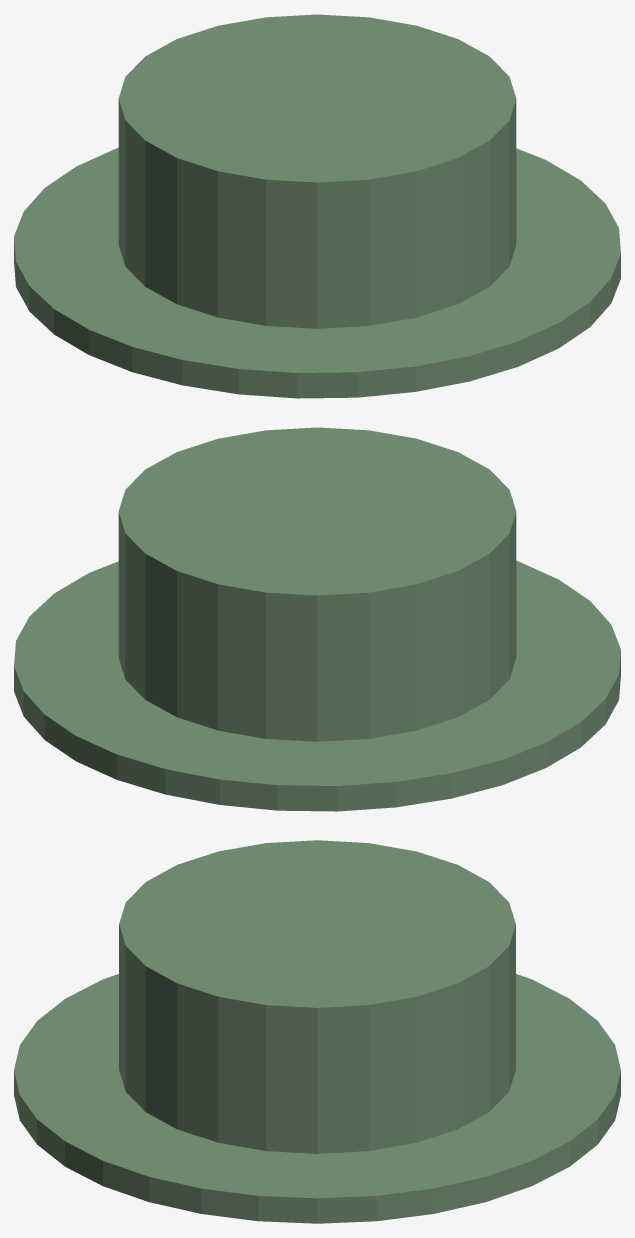
Rendered from army_ladies_hat_officer_wo_me3_to_me8.glb.
3 renders of one model, top to bottom at view 1: azimuth 30°, elevation 25°; view 2: azimuth 150°, elevation 25°; view 3: azimuth 270°, elevation 25°, orthographic.
Parts seen in each view (by area): view 1: hat_crown, hat_brim; view 2: hat_crown, hat_brim; view 3: hat_crown, hat_brim.
Part boxes in pixels (left/top/right/bottom): hat_crown: left=118, top=14, right=516, bottom=328; hat_brim: left=14, top=147, right=620, bottom=398; hat_crown: left=118, top=427, right=516, bottom=741; hat_brim: left=14, top=560, right=620, bottom=811; hat_crown: left=119, top=840, right=515, bottom=1153; hat_brim: left=14, top=974, right=620, bottom=1223.
Bounding box in the file's own units: 0.26 × 0.081 × 0.26.
